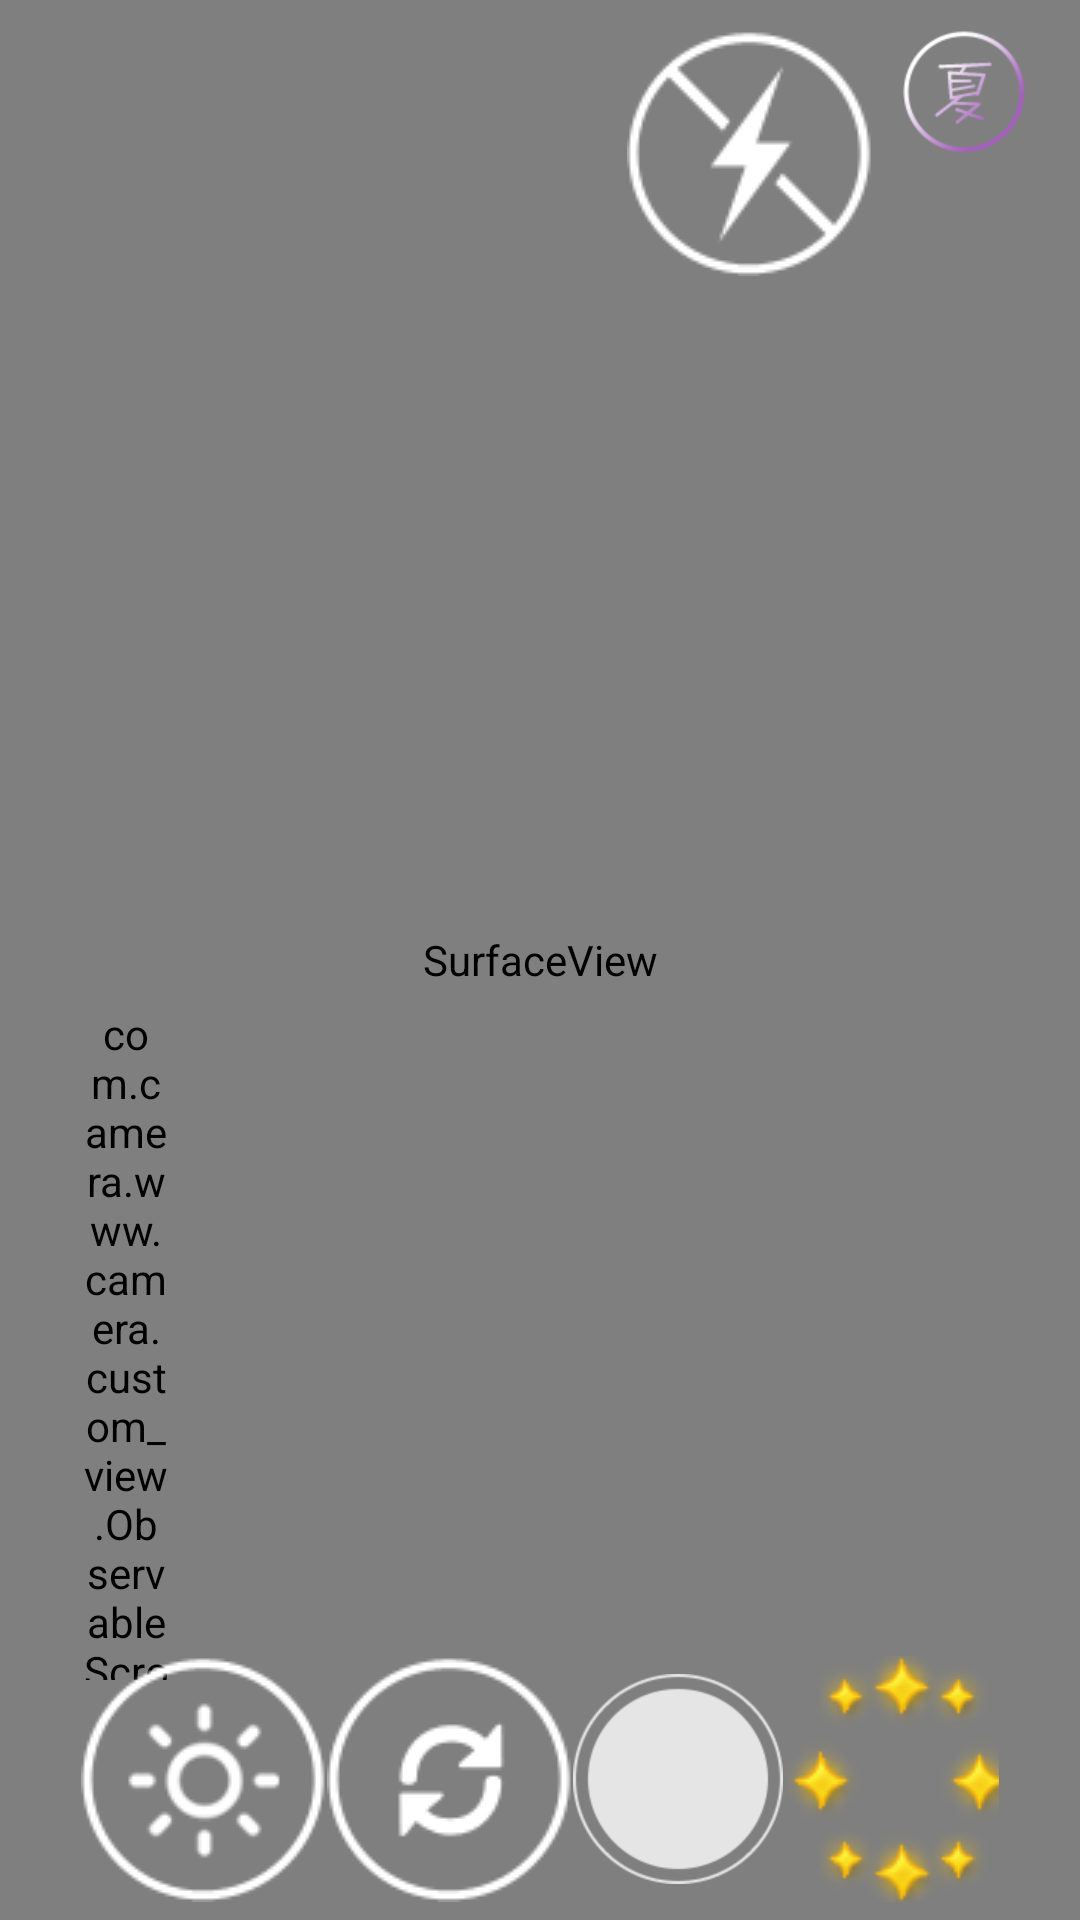

Icons on this 1080px x 1920px Android screen, each with the point to tap as [x,y]:
bright: [203,1779]
camera take: [678,1779]
flash: [749,154]
toggle shot: [449,1780]
